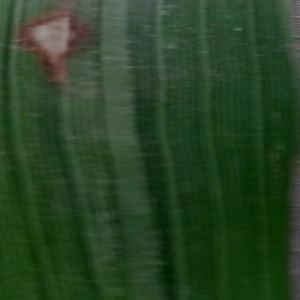Brown_Spot: (11, 6, 100, 84)
